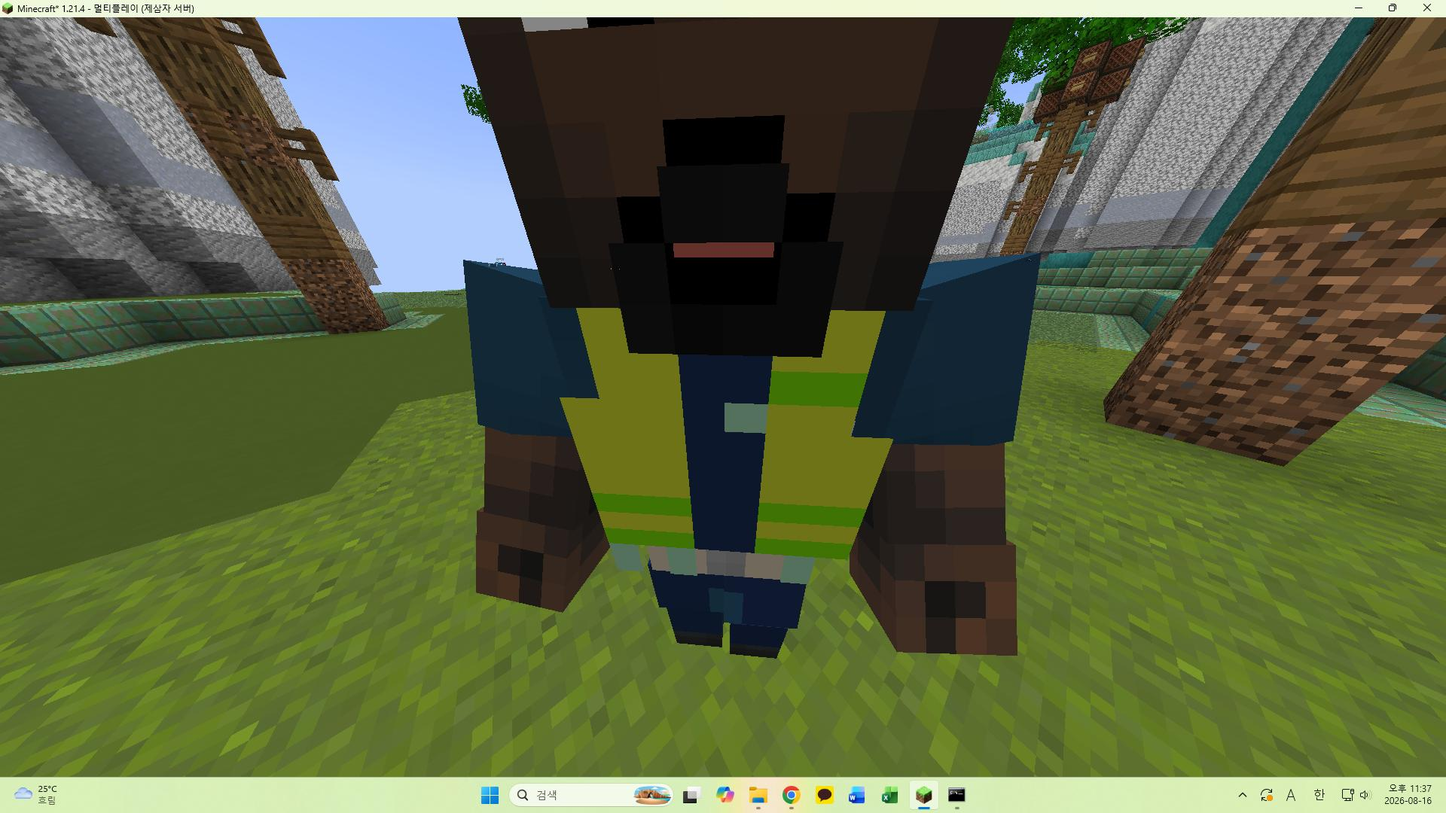Guardian: (461, 18, 1037, 657)
